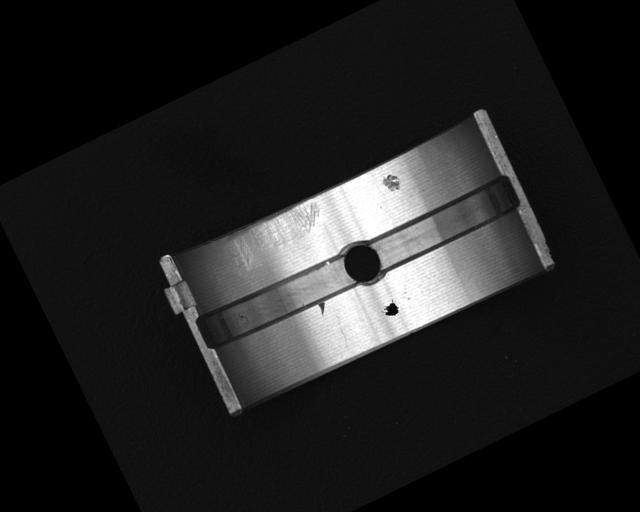blot: (379, 298, 401, 320)
bruise: (378, 170, 405, 197), (316, 299, 331, 316)
gap: (195, 246, 359, 355), (362, 170, 526, 278)
hole: (333, 233, 389, 293)
nick: (331, 314, 353, 349)
scratch: (220, 194, 330, 273)
